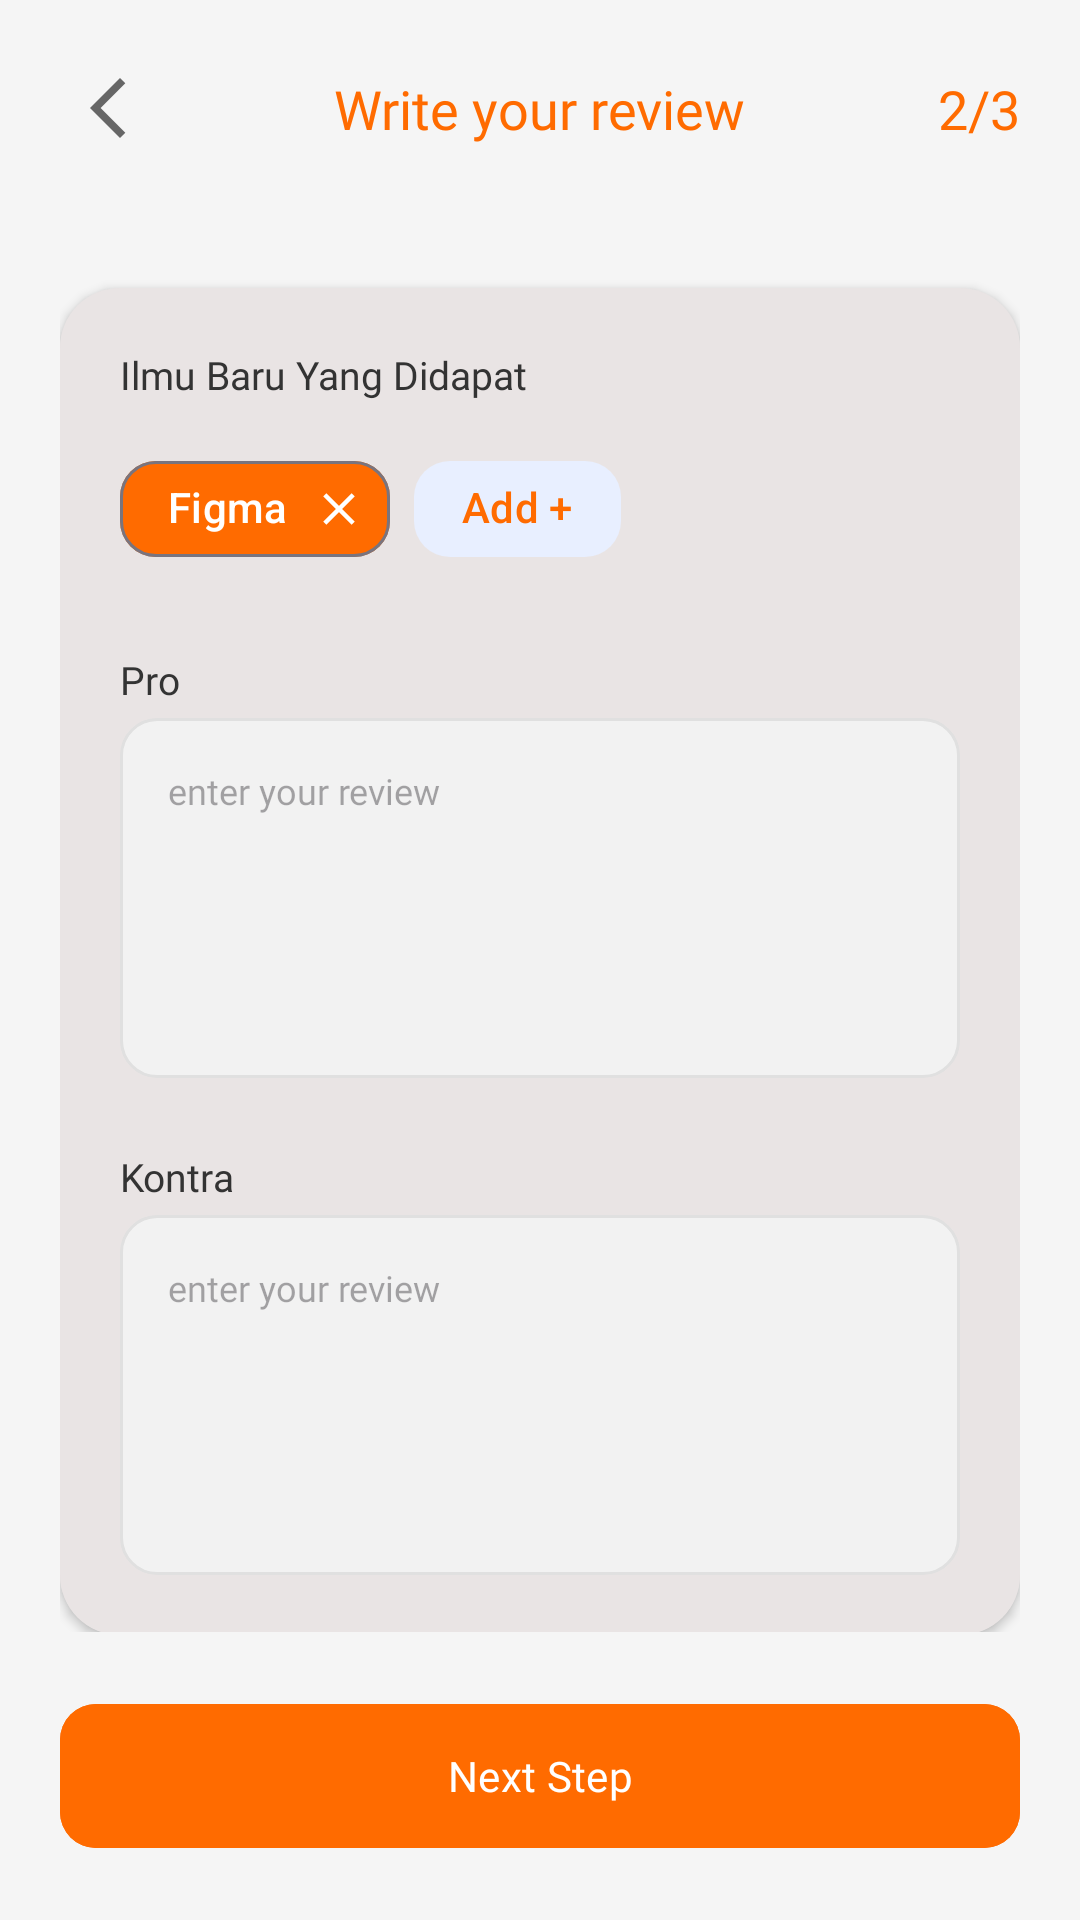

Screen size 1080*1920. Icon name, then its center in pixels as [x,y]:
arrow back: [107,108]
